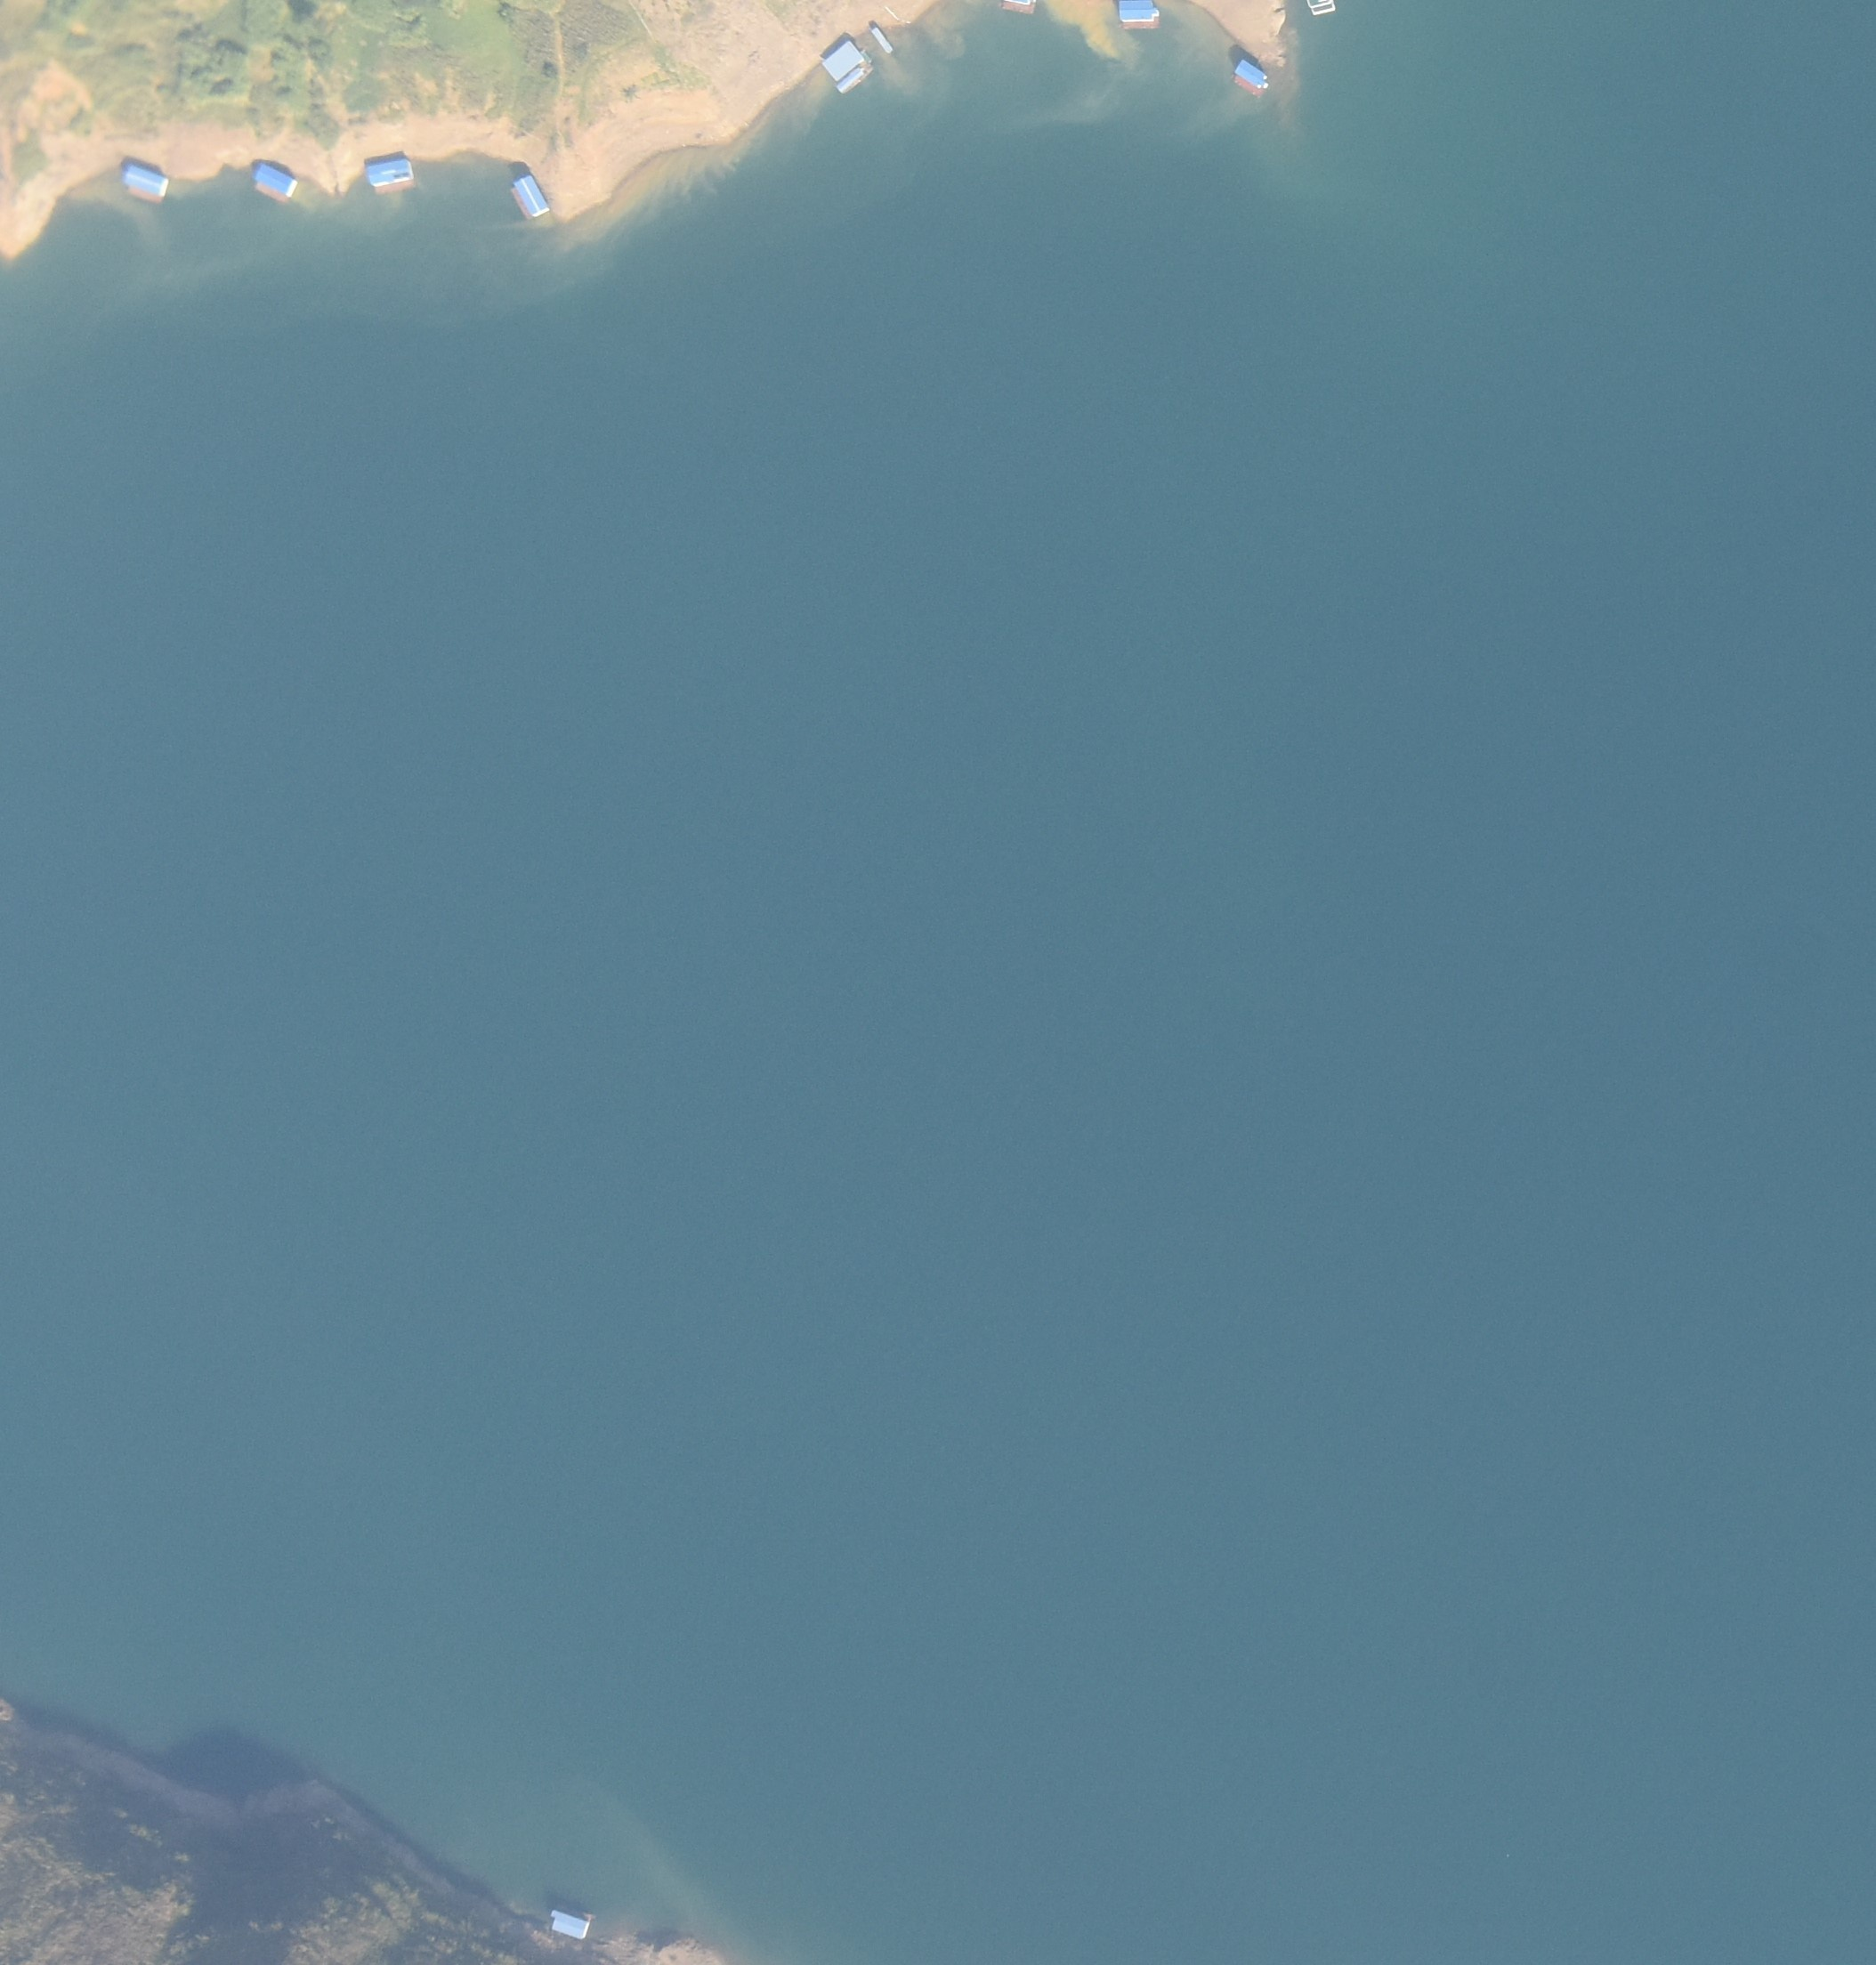prefabricated-house: (820, 37, 869, 93), (123, 160, 168, 200), (512, 174, 549, 218), (253, 163, 298, 198), (1118, 2, 1164, 30), (367, 160, 412, 188), (1230, 60, 1269, 89)
ship: (869, 23, 893, 56)
